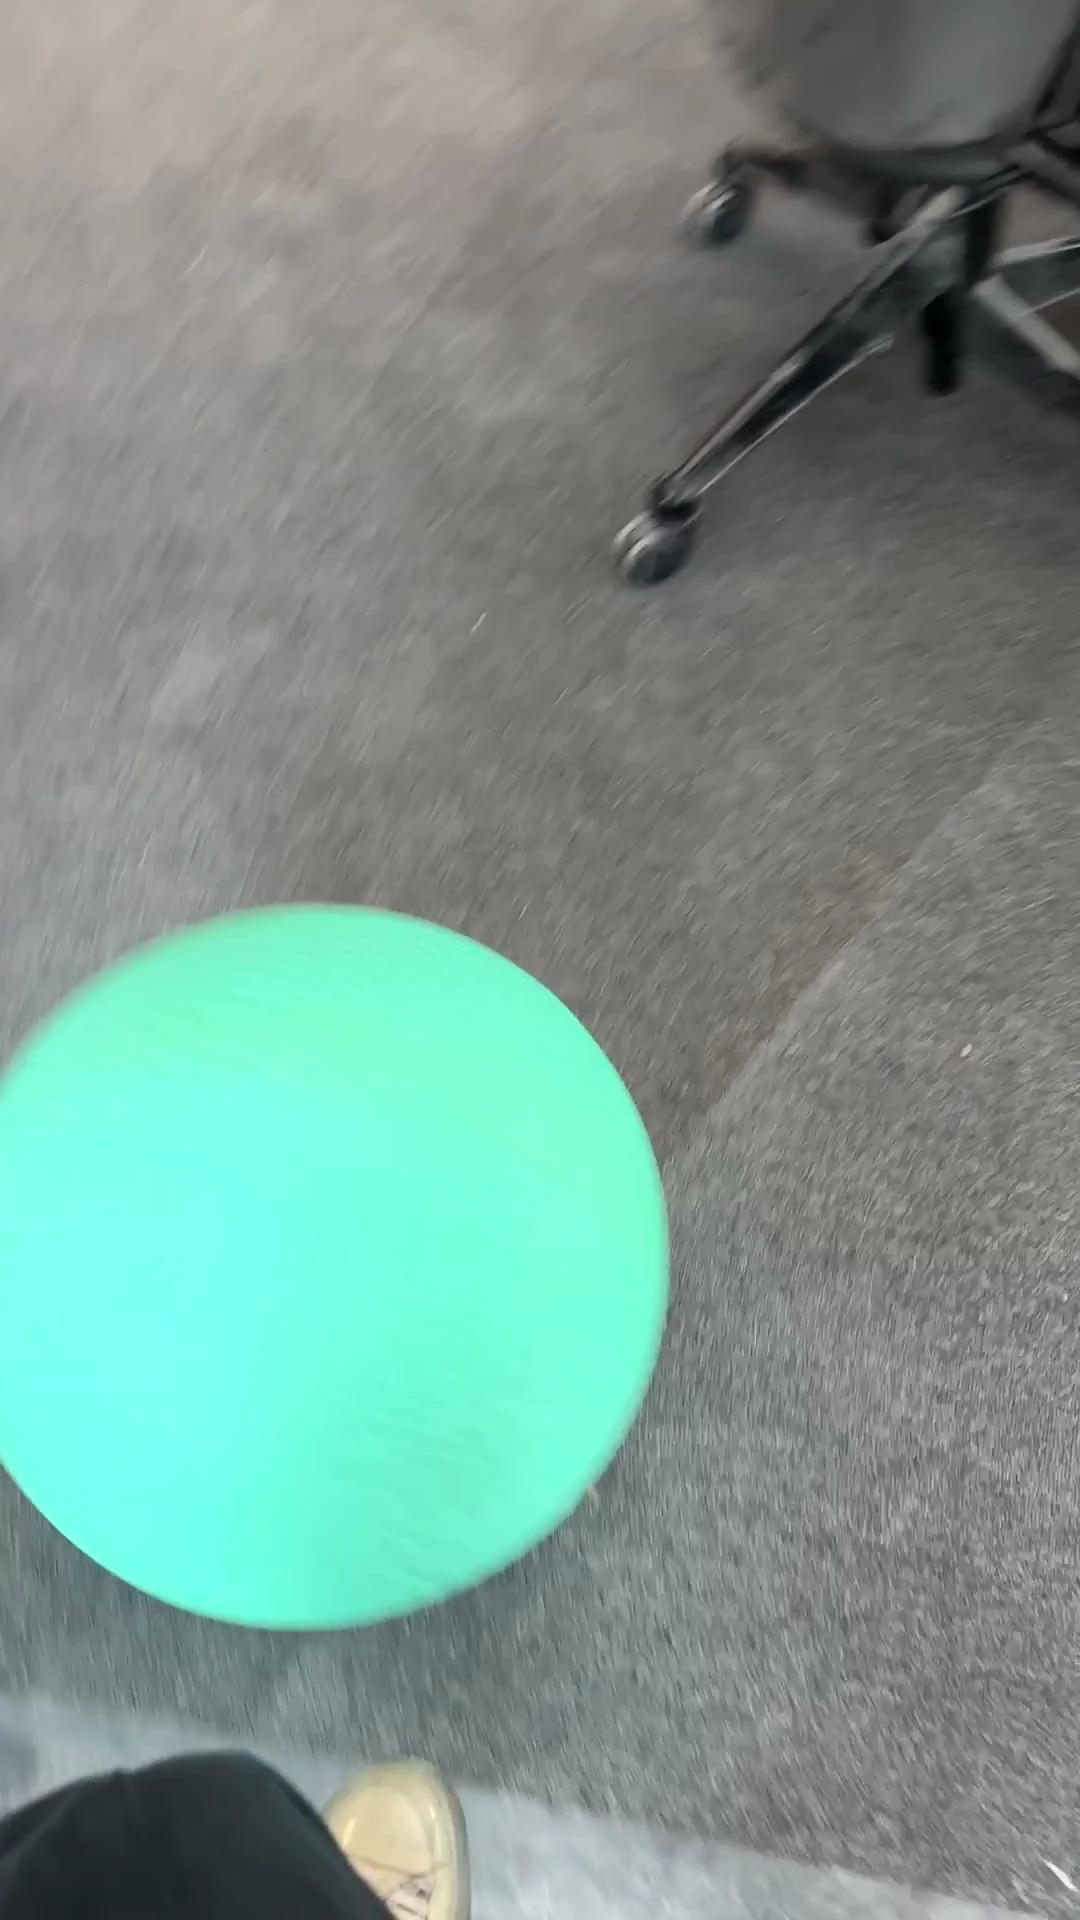ALGAE: (1, 899, 673, 1633)
